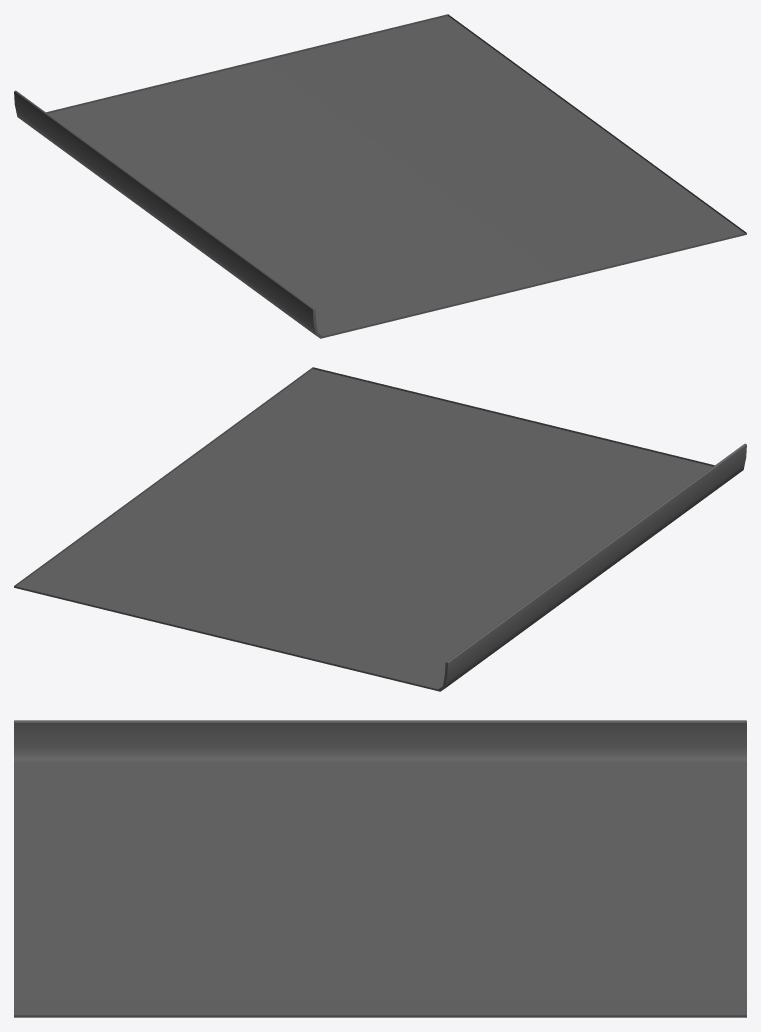
File: Book_20_book_20_2.obj
The picture shows the model from 3 angles, top to bottom: view 1: azimuth 30°, elevation 25°; view 2: azimuth 150°, elevation 25°; view 3: azimuth 270°, elevation 25°; orthographic projection. The views are drawn at different scales.
Size of the model in its own units: 0.2514 by 0.0172 by 0.2998.
Materials: 1 (1 with a texture image).
